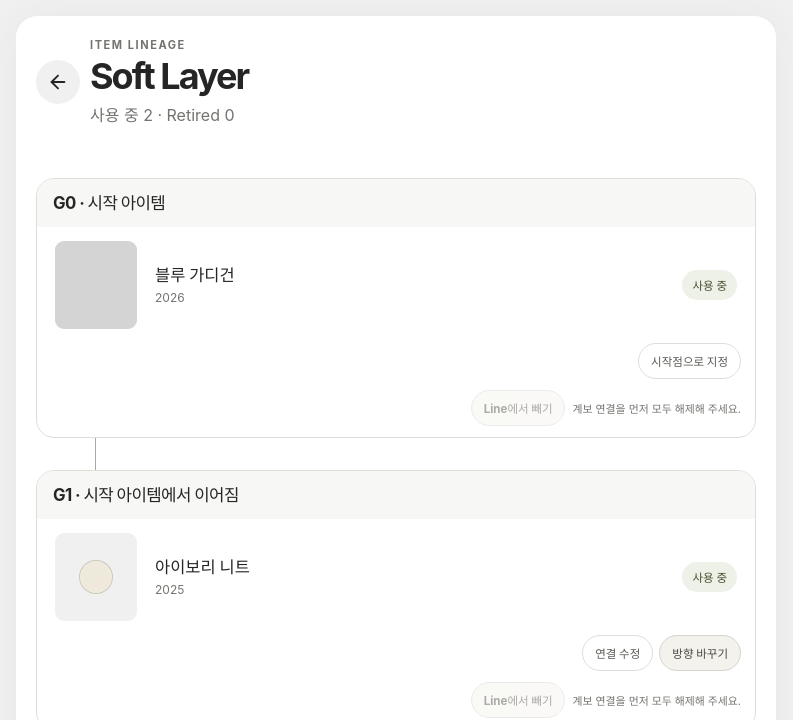
Scenario: ReplacementLineagePage › disconnects an incoming edge and keeps the child as an explicit G0 start
Expected: the heading "Soft Layer" is shown, [90,58,248,96]
What coordinates should you click on to do the following:
click the button "연결 수정"
I would click on:
 (618, 653)
Its box is [582,635,653,671].
(page scrolled)
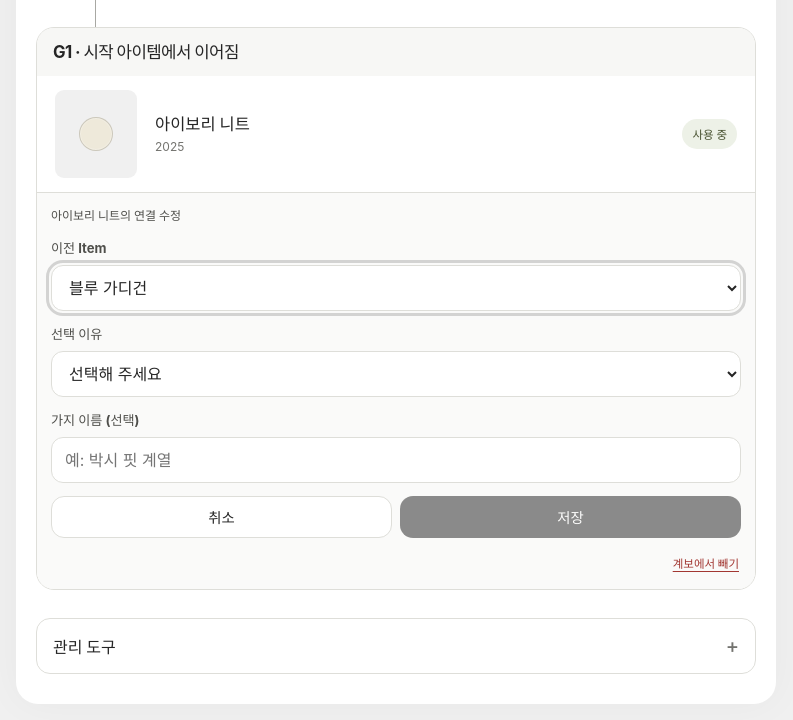
What coordinates should you click on to do the following:
click the button "계보에서 빼기"
I would click on:
 (706, 563)
Its box is [671,551,741,575].
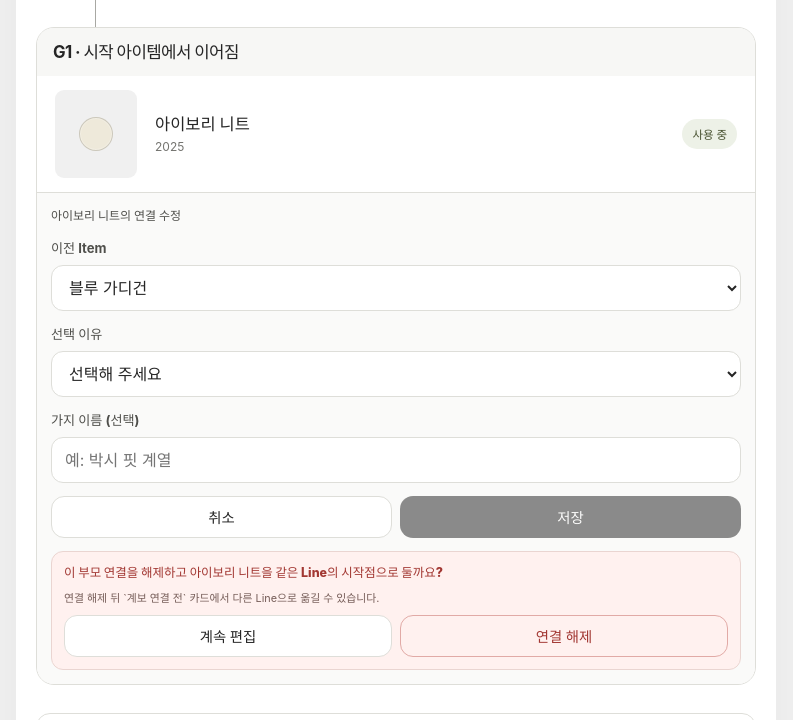
Result: the text "같은 Line의 시작점으로" is shown at [261,565,443,580]
Result: the text "연결 해제 뒤 `계보 연결 전` 카드에서 다른 Line으로 옮길 수 있습니다." is shown at [64,591,380,605]
What coordinates should you click on to do the following:
click the button "연결 해제"
I would click on:
 (564, 636)
Its box is [400,615,728,657].
(page scrolled)
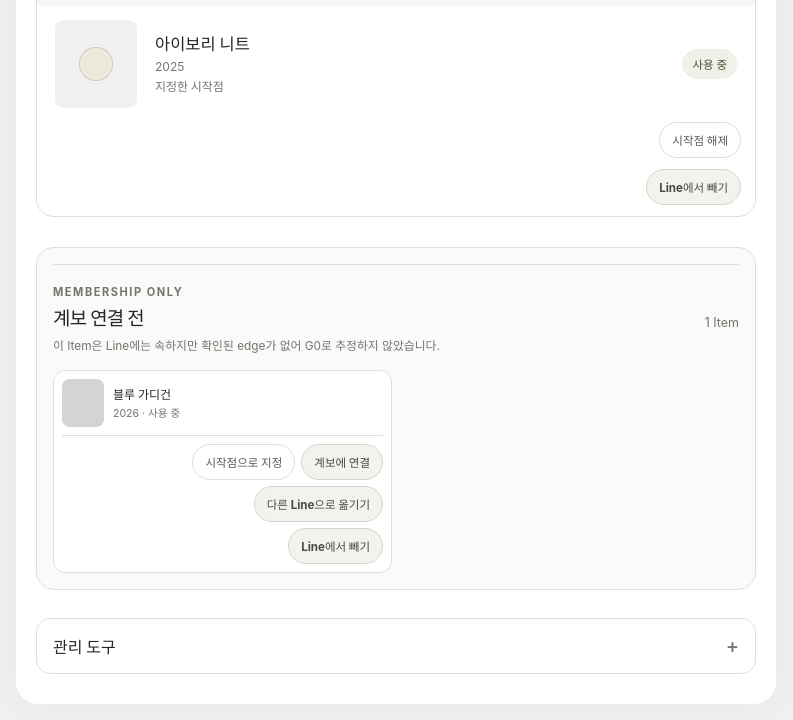
Result: the text "아이보리 니트" is shown at [155,34,250,54]
Result: the text "지정한 시작점" is shown at [155,79,224,94]
